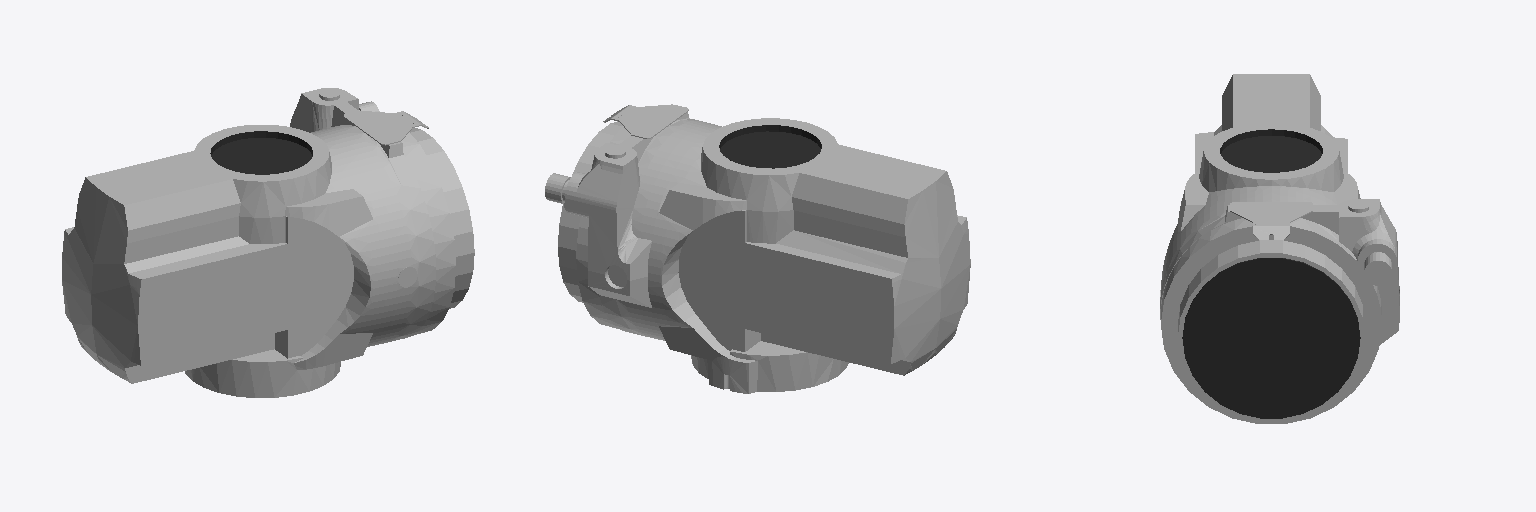
3 views of the same model, side by side, from view 1: azimuth 30°, elevation 25°; view 2: azimuth 150°, elevation 25°; view 3: azimuth 270°, elevation 25° (orthographic).
Visible parts, largest first — view 1: IRB6700-MH3_150-320_IRC5_rev04_LINK05_CAD-0, IRB6700-MH3_150-320_IRC5_rev04_LINK05_CAD-1; view 2: IRB6700-MH3_150-320_IRC5_rev04_LINK05_CAD-0, IRB6700-MH3_150-320_IRC5_rev04_LINK05_CAD-1; view 3: IRB6700-MH3_150-320_IRC5_rev04_LINK05_CAD-0, IRB6700-MH3_150-320_IRC5_rev04_LINK05_CAD-1.
Part boxes in pixels (x1,y1,x2,y2): IRB6700-MH3_150-320_IRC5_rev04_LINK05_CAD-0: (62, 88, 474, 397); IRB6700-MH3_150-320_IRC5_rev04_LINK05_CAD-1: (210, 131, 312, 174); IRB6700-MH3_150-320_IRC5_rev04_LINK05_CAD-0: (545, 104, 970, 393); IRB6700-MH3_150-320_IRC5_rev04_LINK05_CAD-1: (719, 125, 821, 168); IRB6700-MH3_150-320_IRC5_rev04_LINK05_CAD-0: (1160, 74, 1399, 423); IRB6700-MH3_150-320_IRC5_rev04_LINK05_CAD-1: (1182, 129, 1360, 418).
Bounding box in the file's own units: 0.3332 × 0.2 × 0.2045.